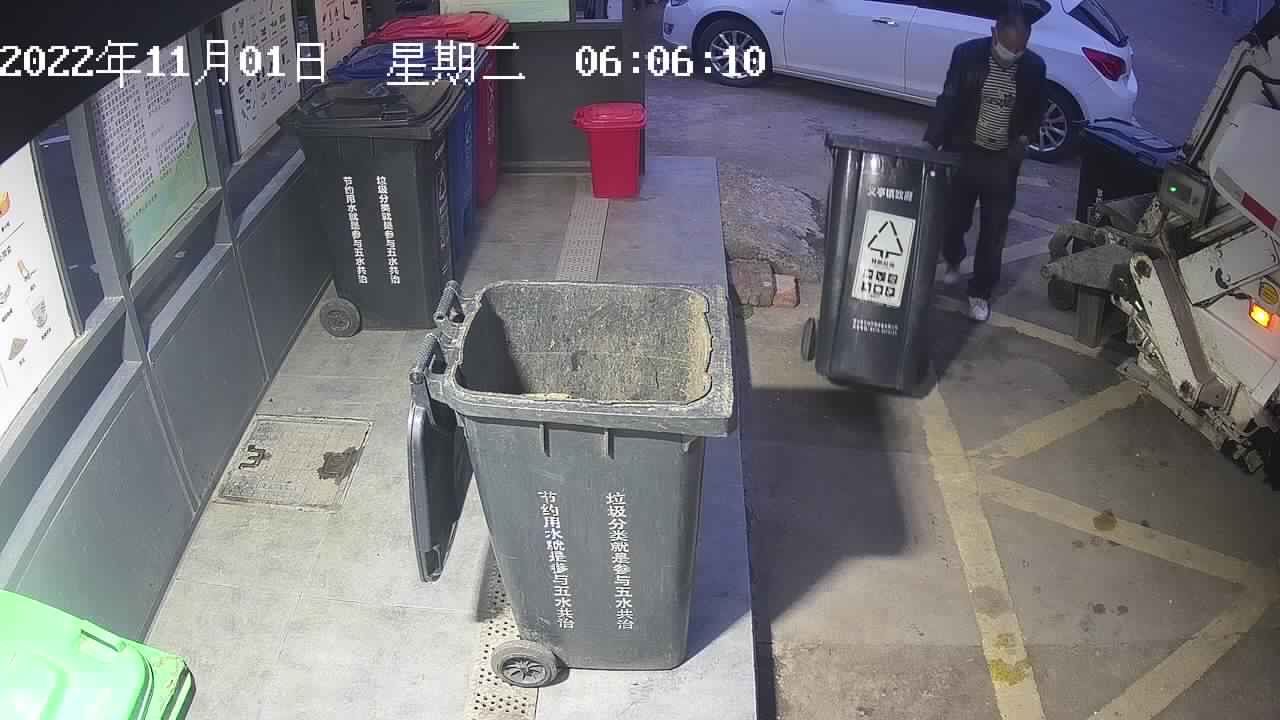person: (915, 10, 1047, 322)
